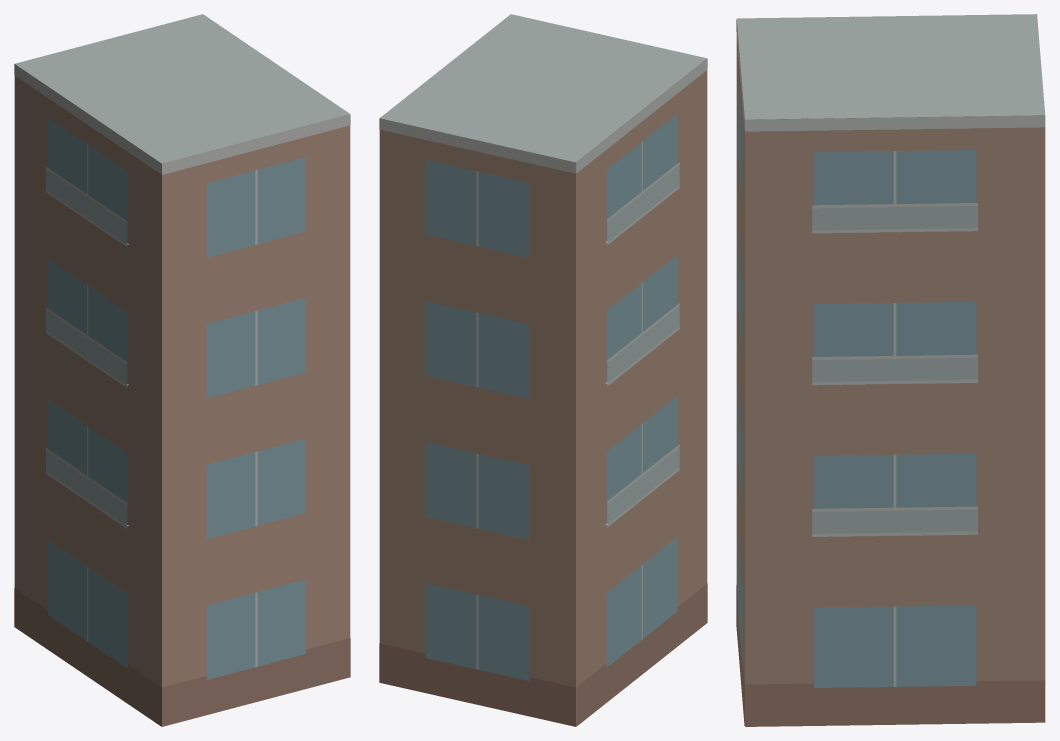
The model's file is survey-upis-32635487.glb.
The picture shows the model from 3 angles, left to right: view 1: azimuth 30°, elevation 25°; view 2: azimuth 150°, elevation 25°; view 3: azimuth 270°, elevation 25°; orthographic projection. The views are drawn at different scales.
Parts seen in each view (by area): view 1: survey-upis-32635487.tmp; view 2: survey-upis-32635487.tmp; view 3: survey-upis-32635487.tmp.
Part boxes in pixels (<box>): survey-upis-32635487.tmp: <box>14,14,350,726</box>; survey-upis-32635487.tmp: <box>379,14,707,726</box>; survey-upis-32635487.tmp: <box>736,14,1045,726</box>.
Size of the model in its own units: 4.56 by 12.2 by 5.63.
